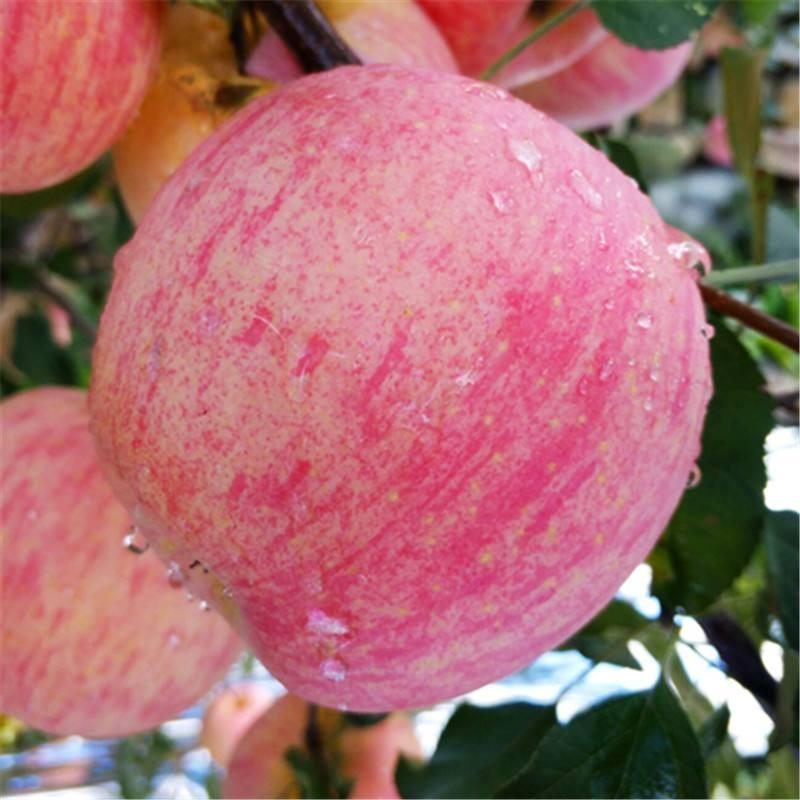apple: (79, 59, 715, 705), (7, 387, 243, 740)
